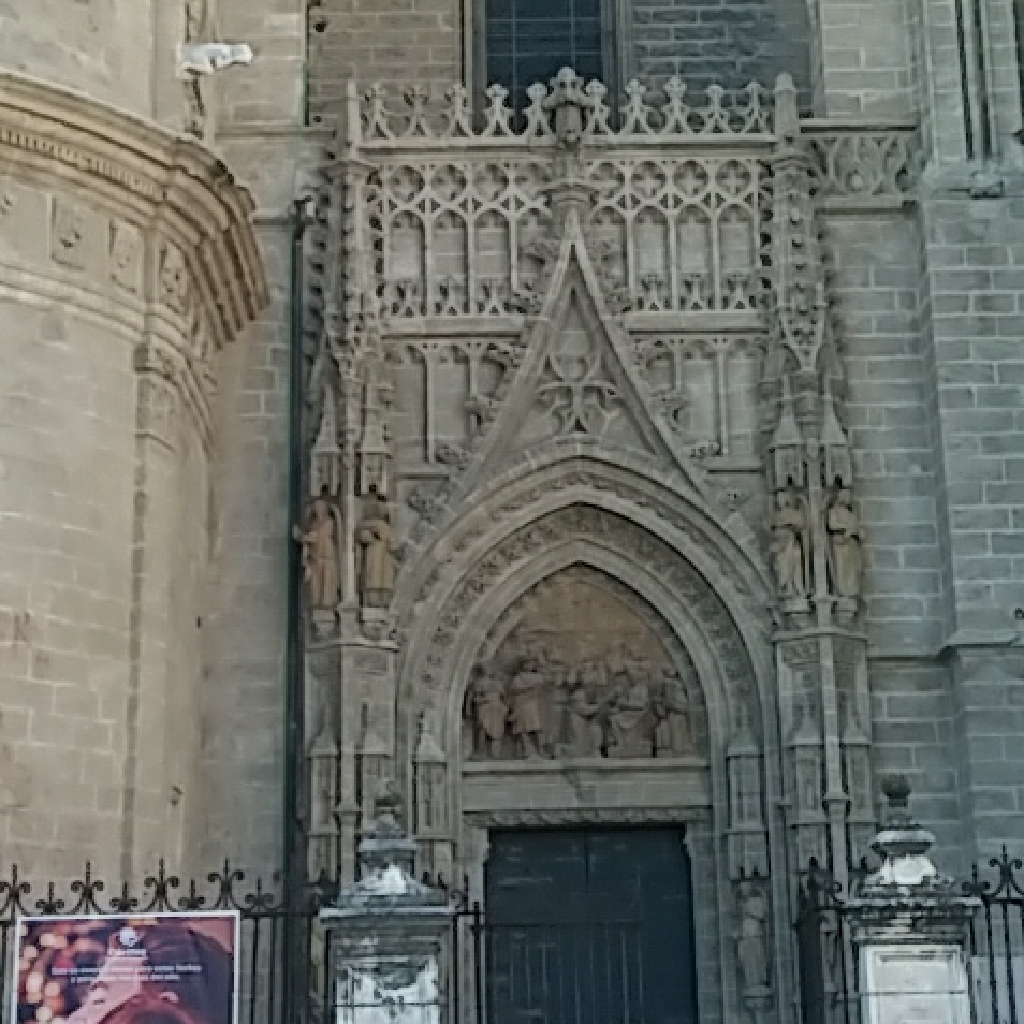arco-apuntado: (429, 443, 745, 770)
pinaculo-gotico: (745, 125, 852, 428), (305, 138, 400, 407)
